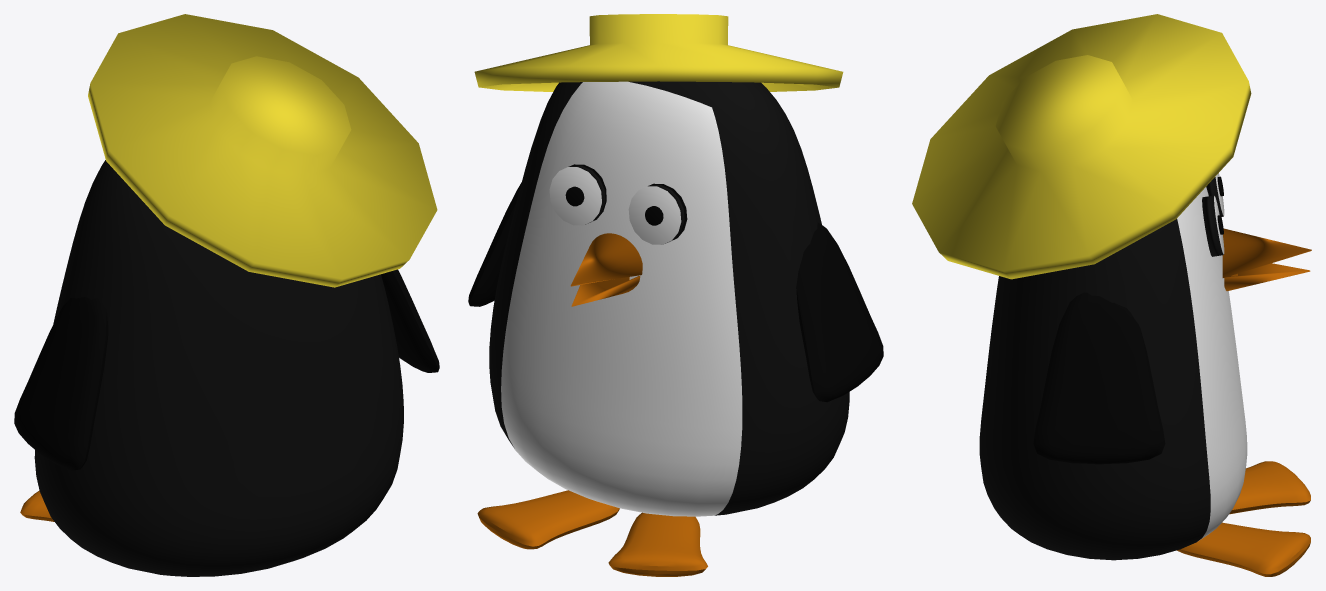
Rendered from pingwin-guide.glb.
The picture shows the model from 3 angles, left to right: view 1: azimuth 30°, elevation 25°; view 2: azimuth 150°, elevation 25°; view 3: azimuth 270°, elevation 25°; orthographic projection. The views are drawn at different scales.
Visible parts, largest first — view 1: Body, Hat, Wing_01, Wing_02, Feet_01; view 2: Body, Hat, Wing_01, Feet_02, Feet_01, Beak, Eye_2, Eye_1, Wing_02; view 3: Hat, Body, Wing_02, Feet_02, Beak, Feet_01, Eye_1.
Boxes of the visible parts, bbox=[...] form: Body: bbox=[34, 160, 403, 576]; Hat: bbox=[88, 14, 437, 287]; Wing_01: bbox=[14, 297, 108, 470]; Wing_02: bbox=[381, 269, 439, 372]; Feet_01: bbox=[20, 490, 54, 521]; Body: bbox=[489, 81, 849, 516]; Hat: bbox=[474, 14, 843, 91]; Wing_01: bbox=[796, 222, 883, 402]; Feet_02: bbox=[477, 490, 619, 549]; Feet_01: bbox=[608, 512, 707, 576]; Beak: bbox=[570, 233, 642, 306]; Eye_2: bbox=[628, 183, 687, 244]; Eye_1: bbox=[549, 164, 606, 225]; Wing_02: bbox=[468, 182, 521, 306]; Hat: bbox=[912, 14, 1251, 279]; Body: bbox=[979, 187, 1247, 560]; Wing_02: bbox=[1033, 292, 1165, 464]; Feet_02: bbox=[1177, 522, 1310, 576]; Beak: bbox=[1222, 228, 1311, 291]; Feet_01: bbox=[1229, 461, 1310, 514]; Eye_1: bbox=[1202, 195, 1224, 256].
Size of the model in its own units: 2.36 by 2.93 by 2.23.
